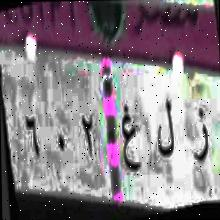0: (56, 125, 68, 161)
2: (81, 108, 96, 164)
6: (24, 109, 40, 168)
ghayn: (120, 99, 140, 181)
laam: (156, 91, 174, 165)
zay: (188, 100, 210, 172)
